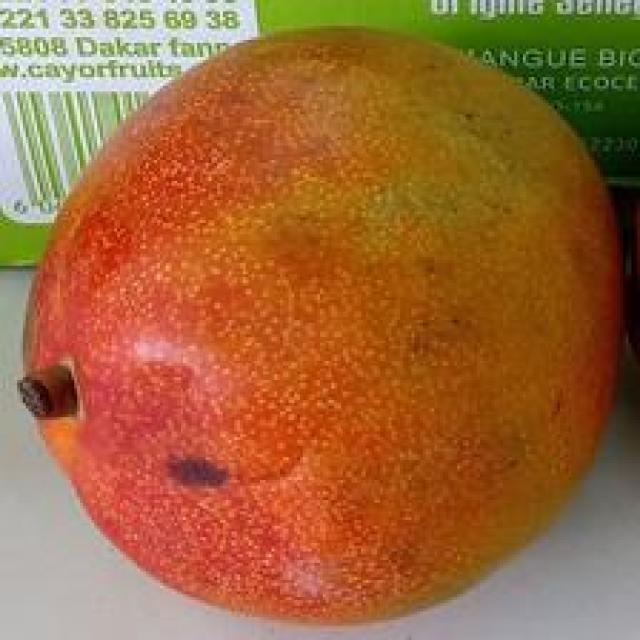Mango: (7, 44, 640, 600)
